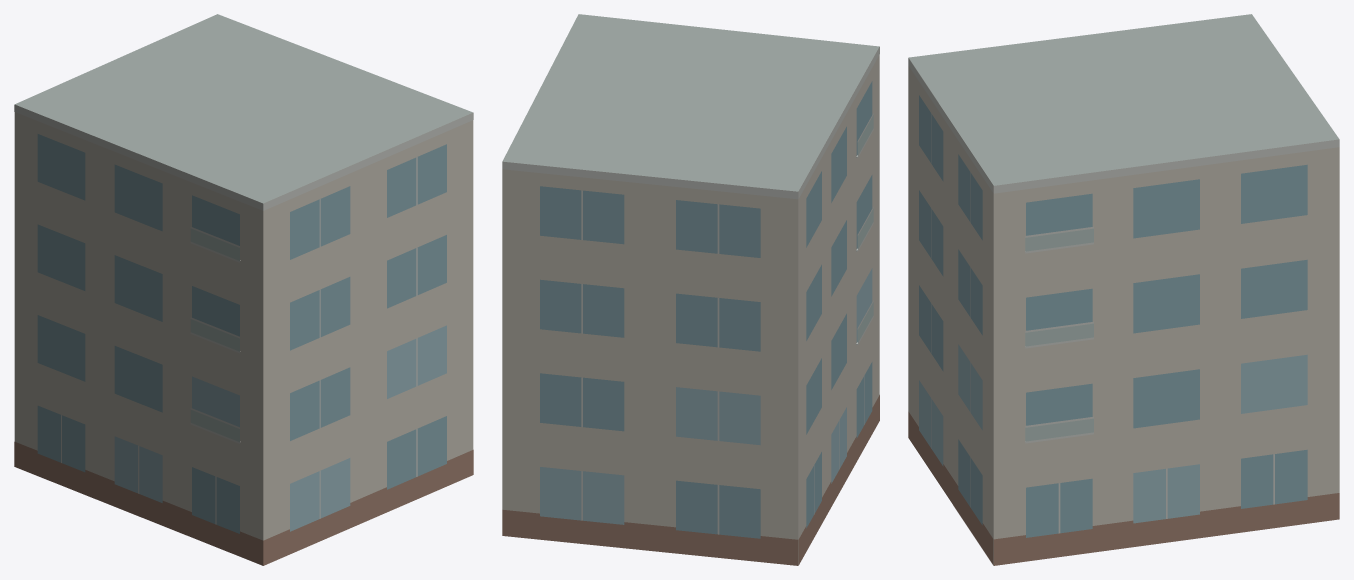
Rendered from survey-upis-32675884.glb.
The picture shows the model from 3 angles, left to right: view 1: azimuth 30°, elevation 25°; view 2: azimuth 150°, elevation 25°; view 3: azimuth 270°, elevation 25°; orthographic projection. The views are drawn at different scales.
Visible parts, largest first — view 1: survey-upis-32675884.tmp; view 2: survey-upis-32675884.tmp; view 3: survey-upis-32675884.tmp.
Boxes of the visible parts, left/top/right/bottom form: survey-upis-32675884.tmp: left=14, top=14, right=473, bottom=565; survey-upis-32675884.tmp: left=502, top=14, right=879, bottom=565; survey-upis-32675884.tmp: left=908, top=14, right=1339, bottom=565.
Bounding box in the file's own units: 11.55 × 11.9 × 12.25.
